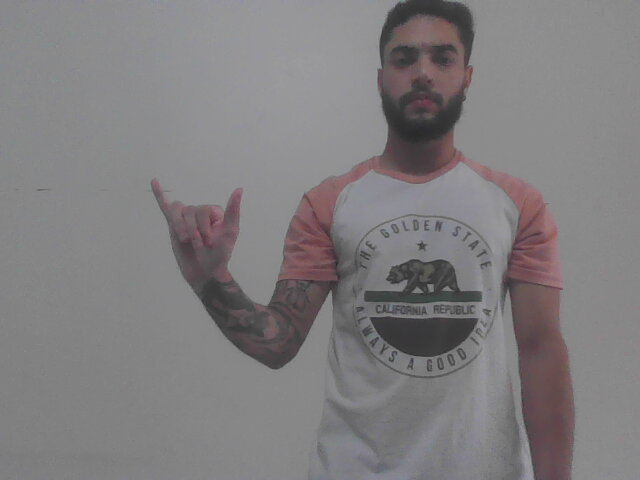y: (143, 175, 254, 287)
